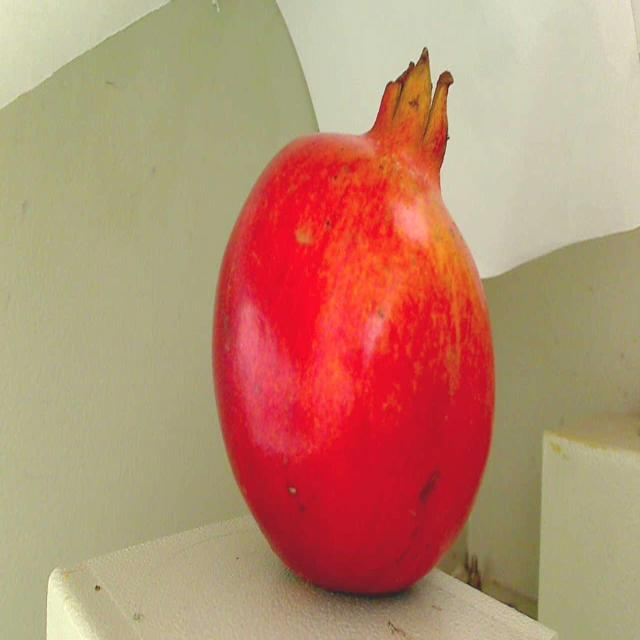pomegranate: (207, 31, 510, 608)
